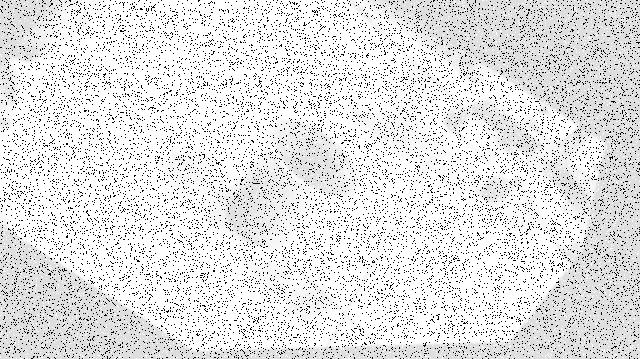pot: (225, 117, 359, 248)
